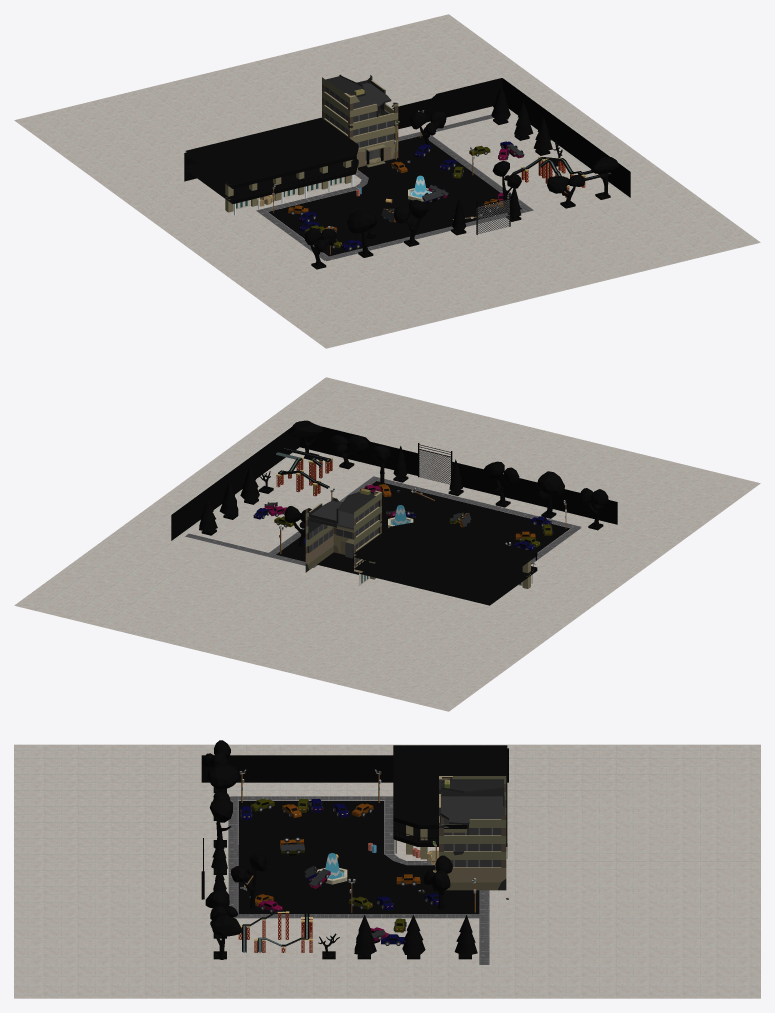
Rendered from map3Qfix_fbx.fbx.
The picture shows the model from 3 angles, top to bottom: view 1: azimuth 30°, elevation 25°; view 2: azimuth 150°, elevation 25°; view 3: azimuth 270°, elevation 25°; orthographic projection. The views are drawn at different scales.
Parts seen in each view (by area): view 1: map; view 2: map; view 3: map.
Part boxes in pixels (box(x1,y1,x2,y2)): map: box(14, 14, 760, 348); map: box(14, 377, 760, 711); map: box(14, 740, 760, 998).
Bounding box in the file's own units: 173 × 31.4 × 215.
29 materials, 19 textured.
